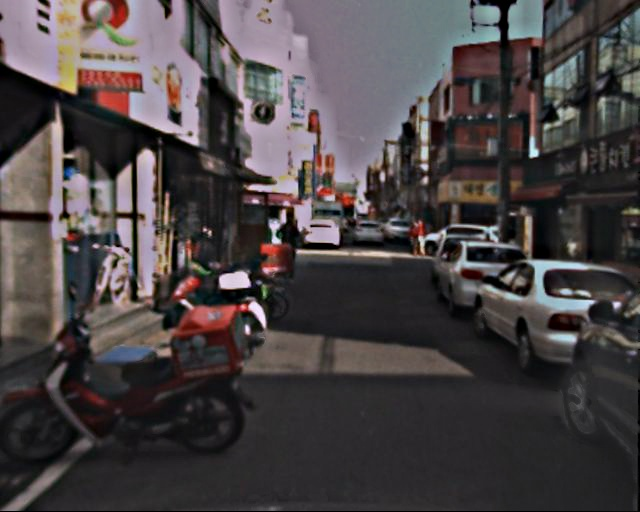person: (274, 212, 304, 285), (407, 220, 427, 256)
